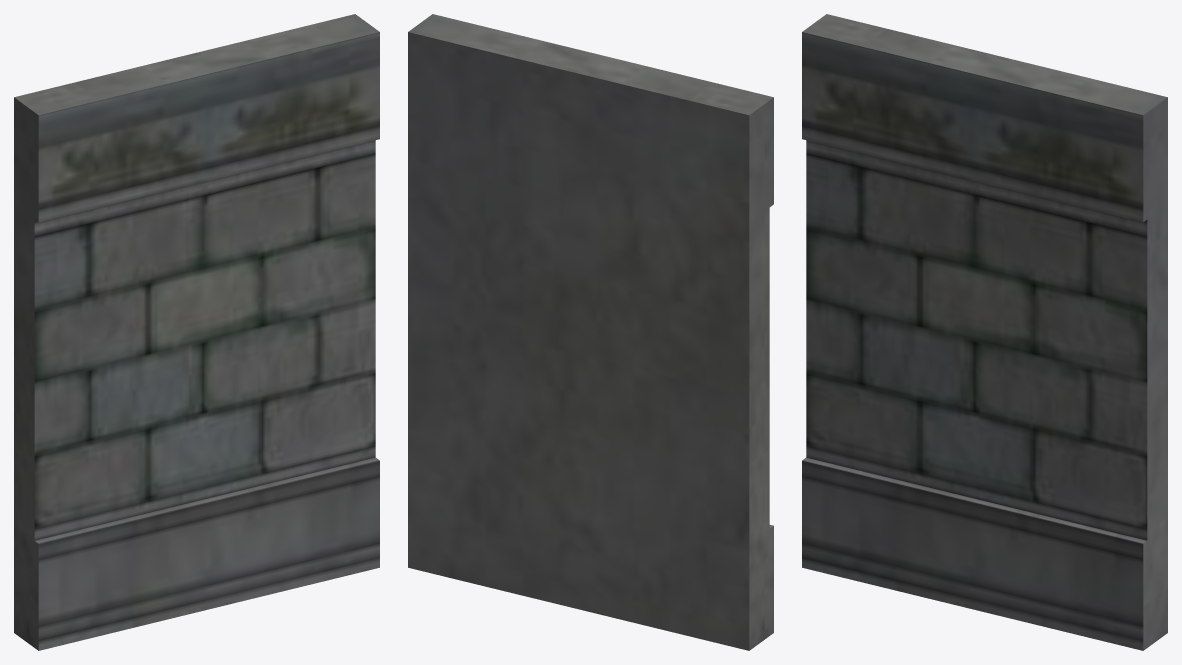
File: sd_wall_small_half_01.glb
The picture shows the model from 3 angles, left to right: view 1: azimuth 30°, elevation 25°; view 2: azimuth 150°, elevation 25°; view 3: azimuth 330°, elevation 25°; orthographic projection.
Visible parts, largest first — view 1: wall_small_half_01; view 2: wall_small_half_01; view 3: wall_small_half_01.
Part boxes in pixels (x1,y1,x2,y2): wall_small_half_01: (14, 14, 379, 650); wall_small_half_01: (408, 14, 773, 650); wall_small_half_01: (802, 14, 1167, 650).
Size of the model in its own units: 2 by 3 by 0.2501.
Materials: 1 (1 with a texture image).
